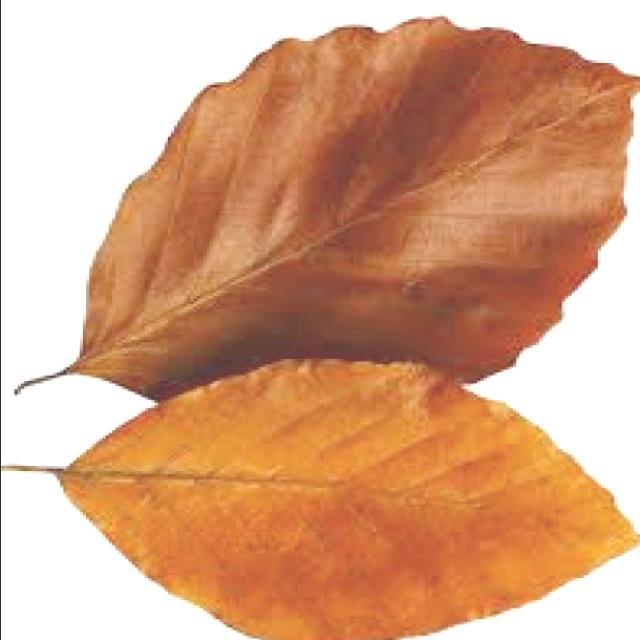leaf: (12, 14, 638, 403), (5, 355, 638, 638)
